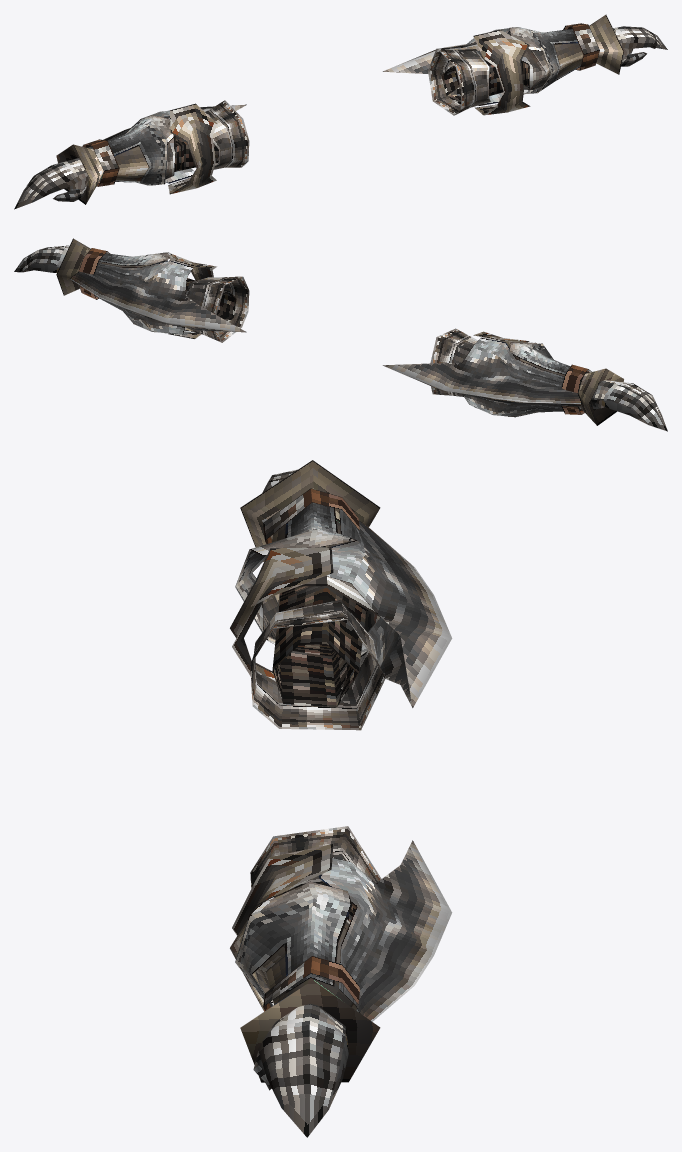
3 renders of one model, top to bottom at view 1: azimuth 30°, elevation 25°; view 2: azimuth 150°, elevation 25°; view 3: azimuth 270°, elevation 25°, orthographic. The views are drawn at different scales.
Parts seen in each view (by area): view 1: mesh00; view 2: mesh00; view 3: mesh00.
Boxes of the visible parts, x1,y1,x2,y2 form: mesh00: [14, 14, 667, 209]; mesh00: [14, 238, 667, 431]; mesh00: [230, 460, 452, 1137].
Size of the model in its own units: 181 by 19.63 by 26.69.
Materials: 1 (1 with a texture image).
